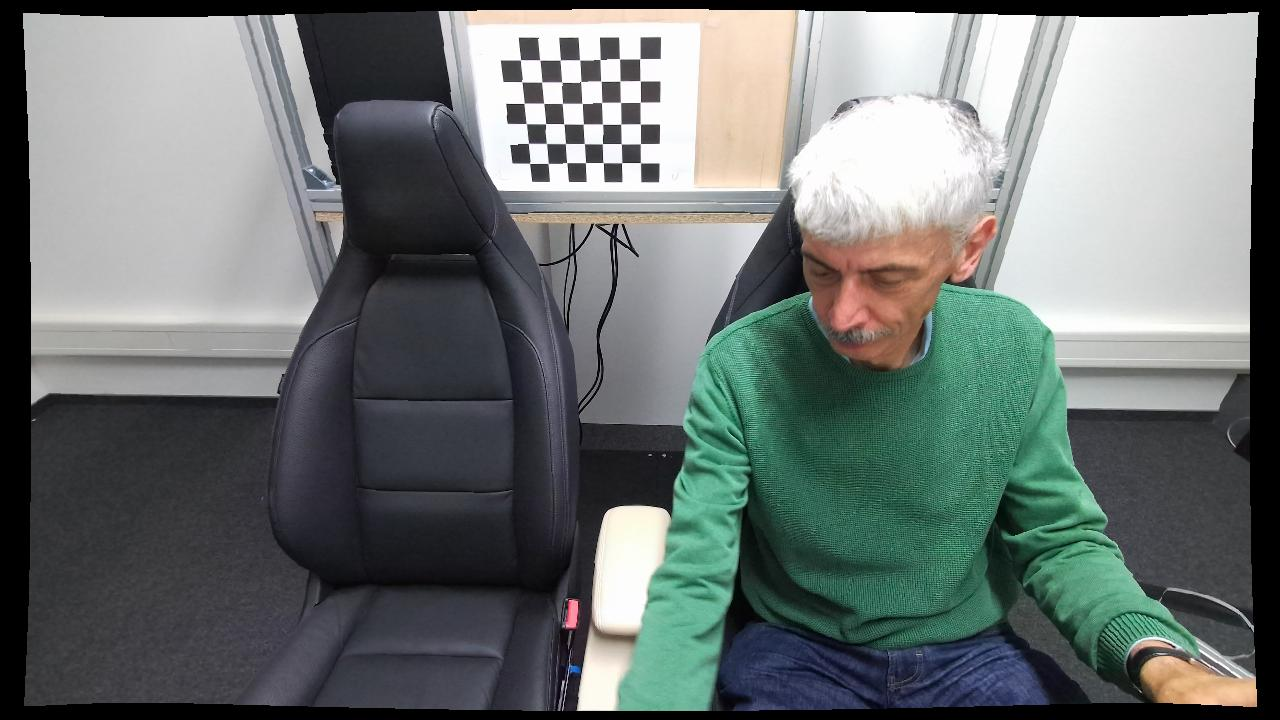Distracted: (615, 95, 1115, 710)
